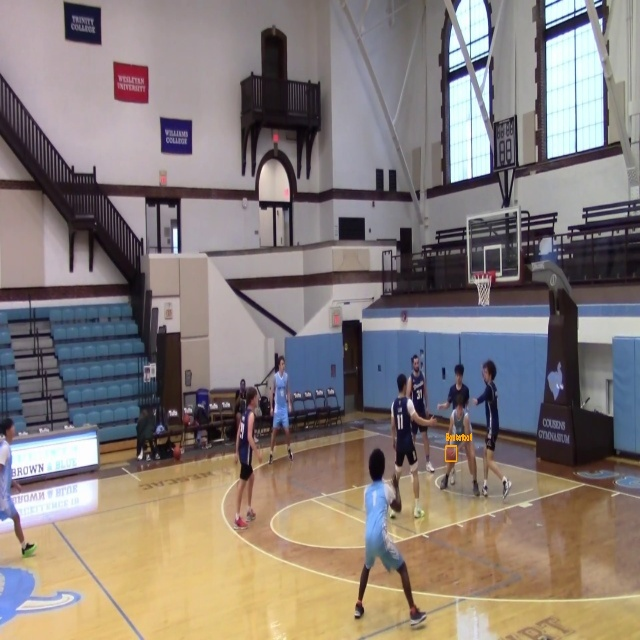Basketball: (446, 446, 457, 462)
